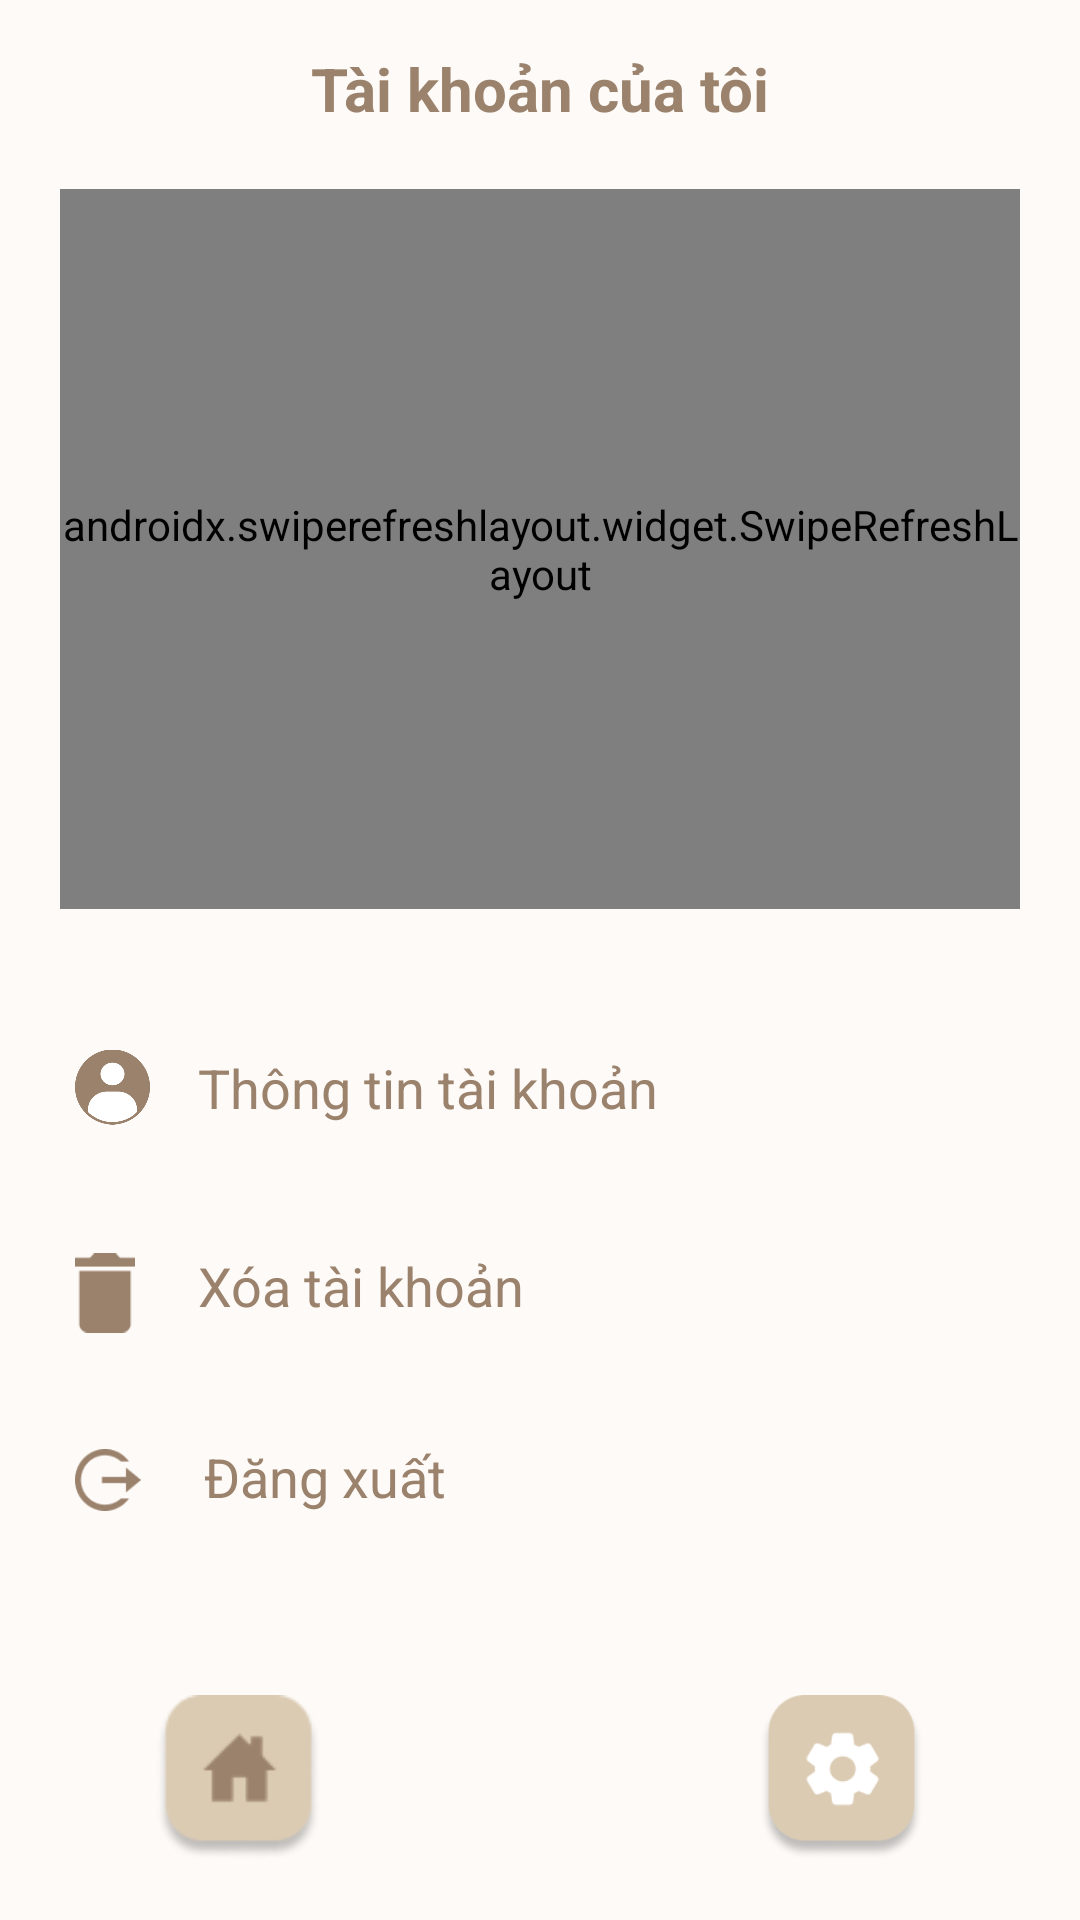

Point at icon controls on the screen. Image size 1080x1920, points as point (x, y).
delete: point (105, 1293)
Home: point (238, 1773)
Settings: point (841, 1773)
